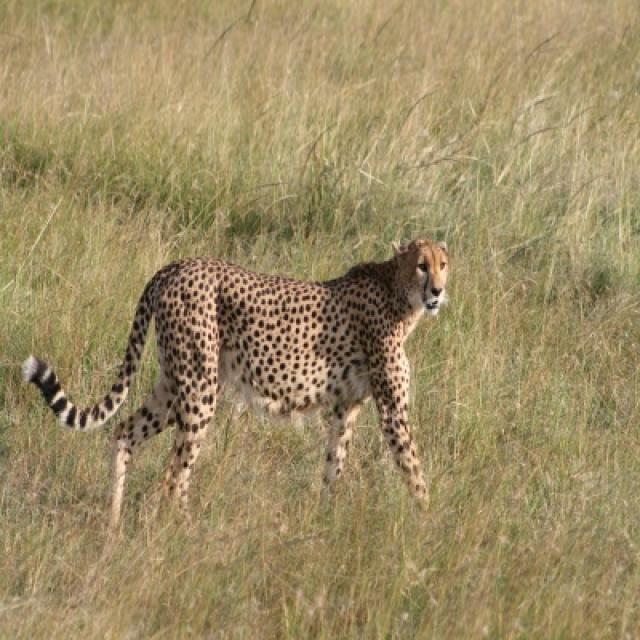Cheetah: (22, 238, 445, 525)
